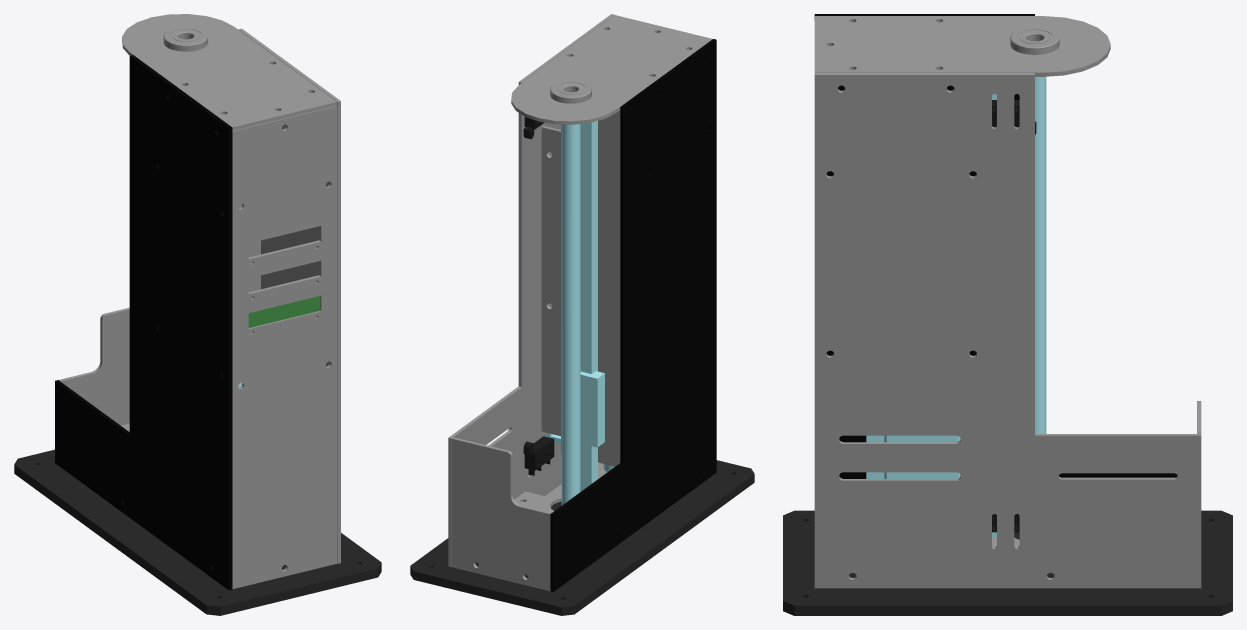
File: M3_Body.glb
3 views of the same model, side by side, from view 1: azimuth 30°, elevation 25°; view 2: azimuth 150°, elevation 25°; view 3: azimuth 270°, elevation 25° (orthographic). The views are drawn at different scales.
Parts seen in each view (by area): view 1: M3_Body; view 2: M3_Body; view 3: M3_Body.
Boxes of the visible parts, box(x1,y1,x2,y2) form: M3_Body: box(14, 14, 381, 615); M3_Body: box(410, 14, 754, 615); M3_Body: box(783, 14, 1232, 615).
Size of the model in its own units: 0.1 by 0.2605 by 0.2.
